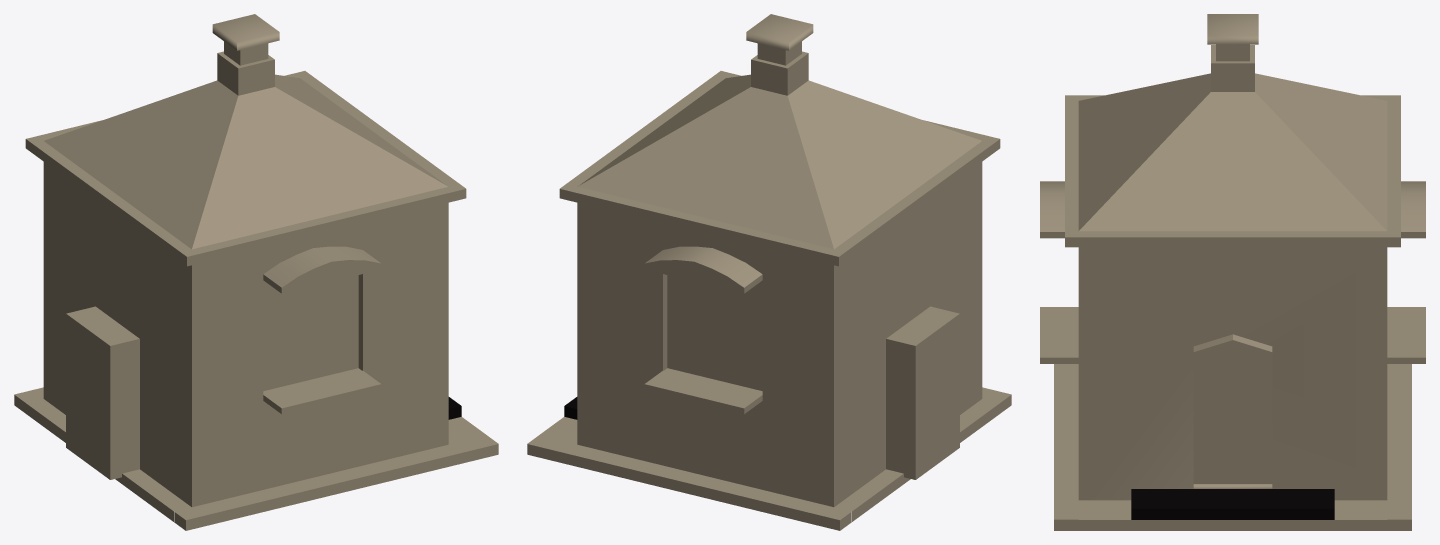
Rendered from SmallHouse001.fbx.
3 renders of one model, left to right at view 1: azimuth 30°, elevation 25°; view 2: azimuth 150°, elevation 25°; view 3: azimuth 270°, elevation 25°, orthographic. The views are drawn at different scales.
Parts seen in each view (by area): view 1: polySurface2029; view 2: polySurface2029; view 3: polySurface2029.
Boxes of the visible parts, box(x1,y1,x2,y2) form: polySurface2029: box(14, 14, 498, 530); polySurface2029: box(527, 14, 1011, 530); polySurface2029: box(1040, 14, 1425, 530).
Size of the model in its own units: 344 by 410 by 340.
